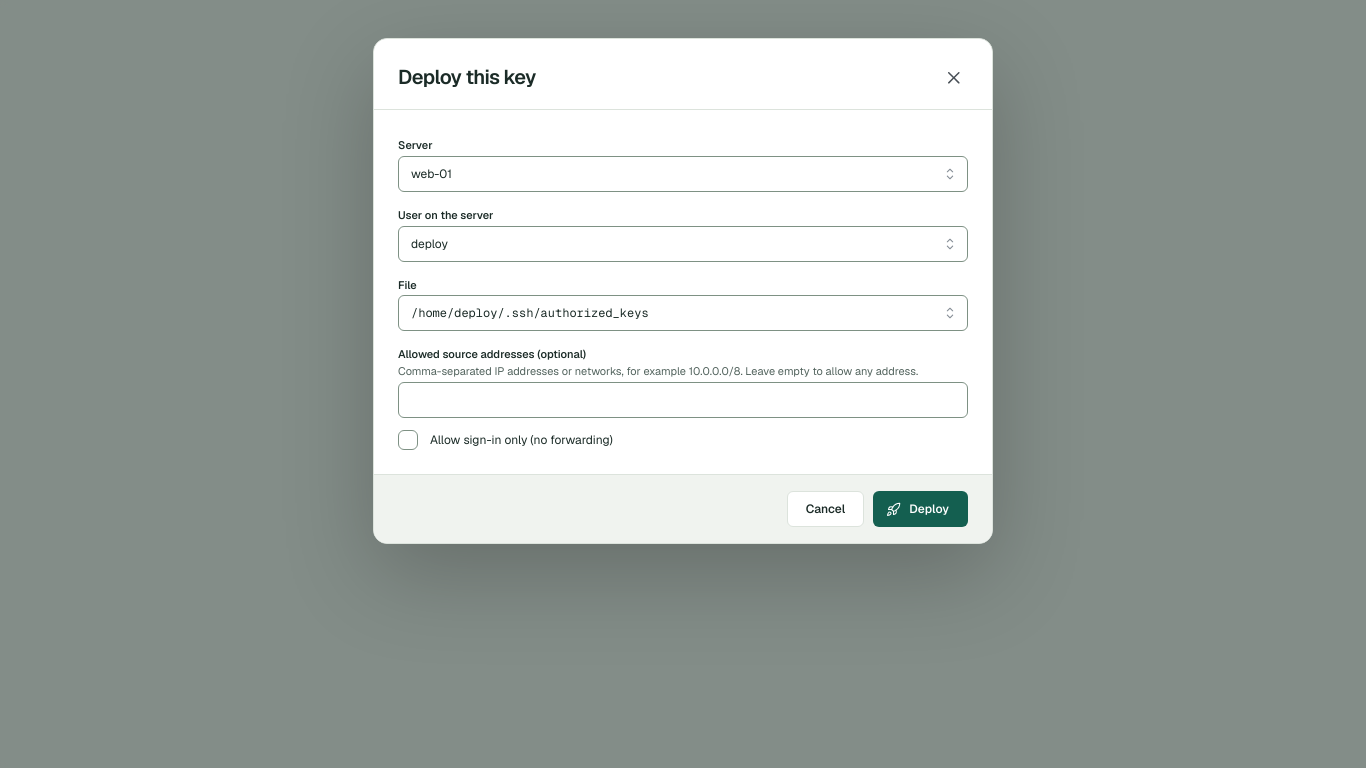
Test: DeployKeyDialog › sends the options as typed and reports a verified login
Type "10.0.0.0/8, 192.168.1.5" into the field labelled "Allowed source addresses (optional)".
click(683, 400); type("10.0.0.0/8, 192.168.1.5")  # box [398, 382, 968, 418]
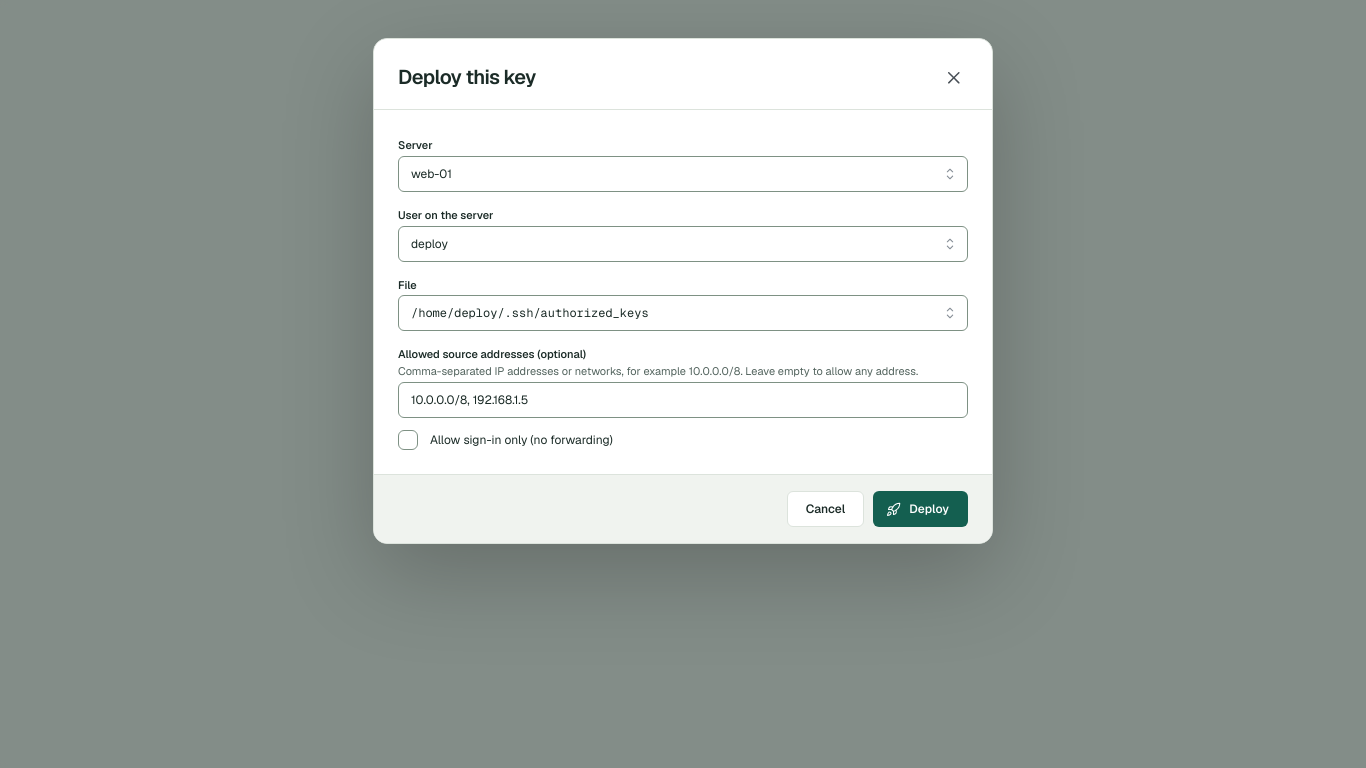
Click the checkbox labelled "Allow sign-in only (no forwarding)".
click(408, 440)  # box [398, 430, 418, 450]
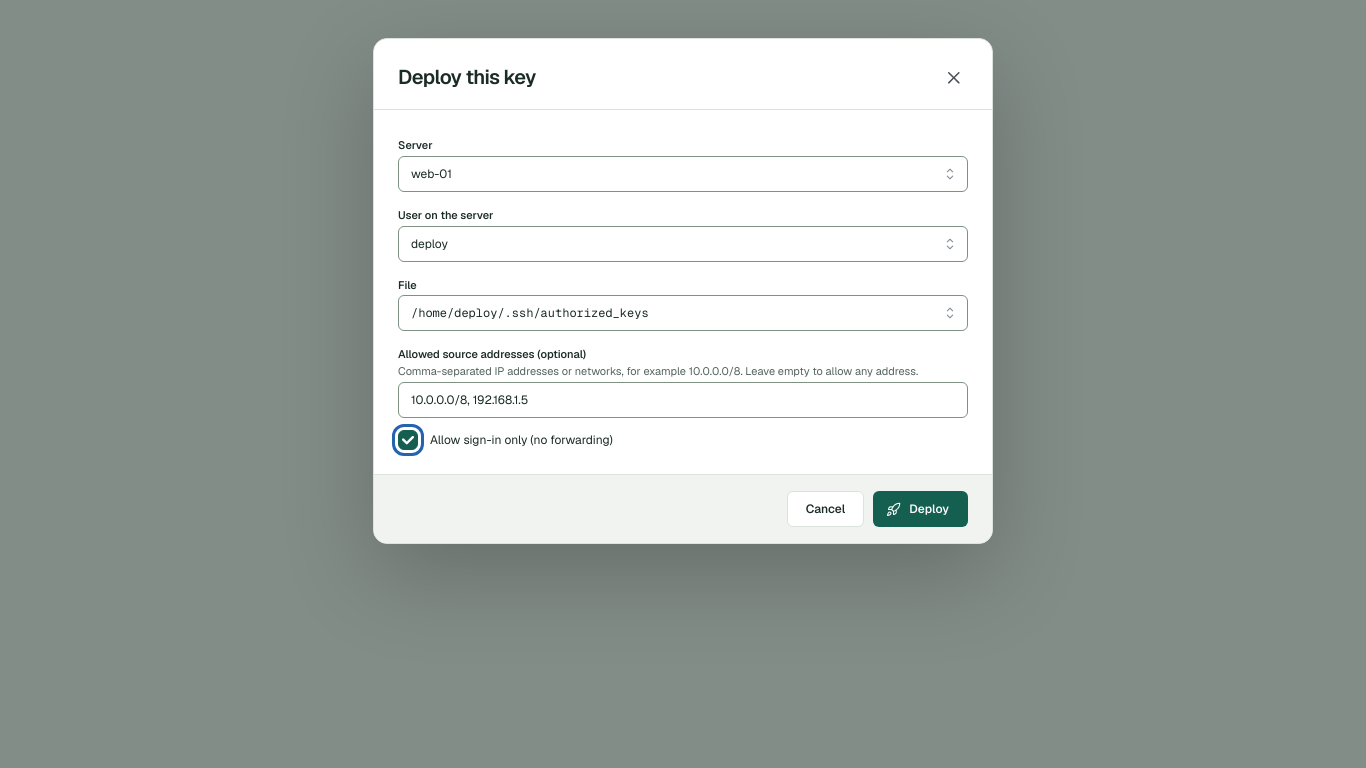
Expected: the dropdown labelled "File" shows "/home/deploy/.ssh/authorized_keys", [398, 296, 968, 332]
Click the button "Deploy".
click(921, 509)  # box [873, 491, 968, 527]
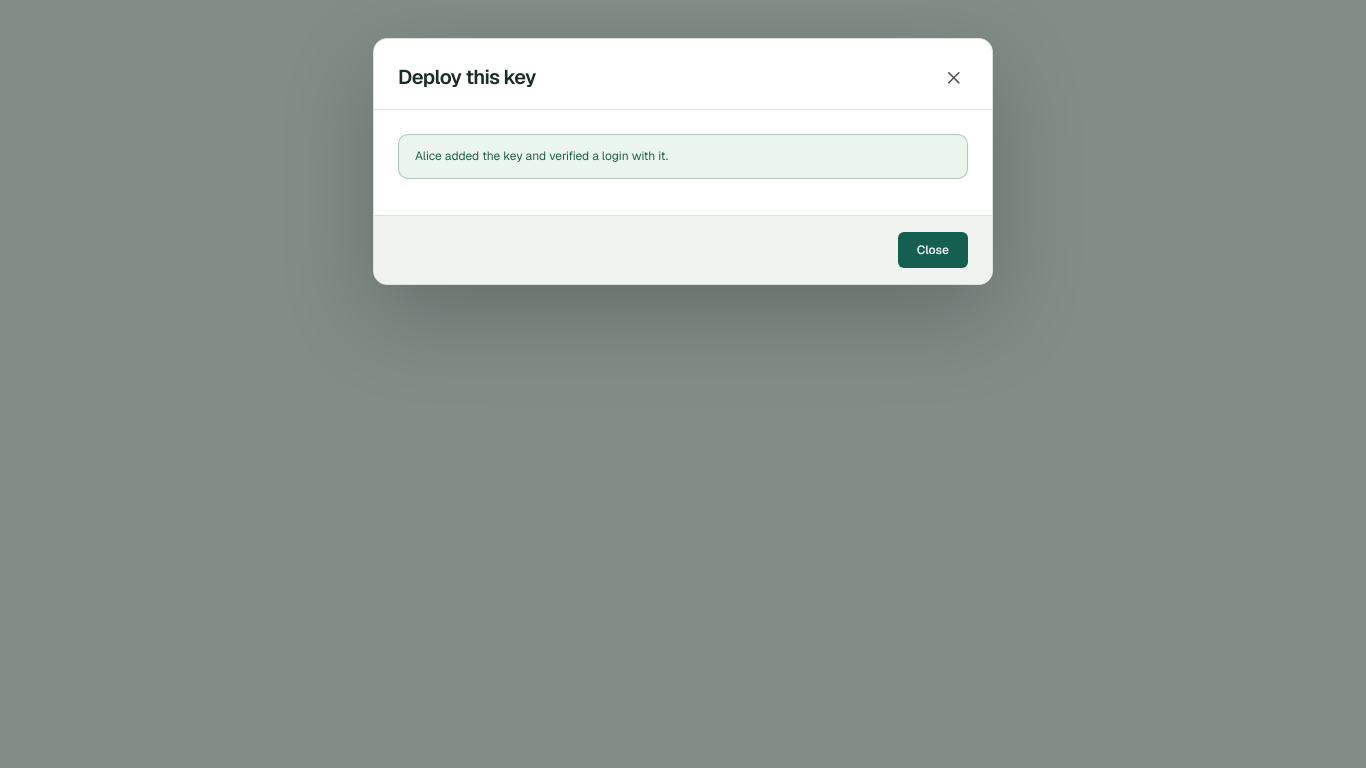
Expected: the text "Alice added the key and verified a login with it." is shown, [415, 148, 668, 164]
